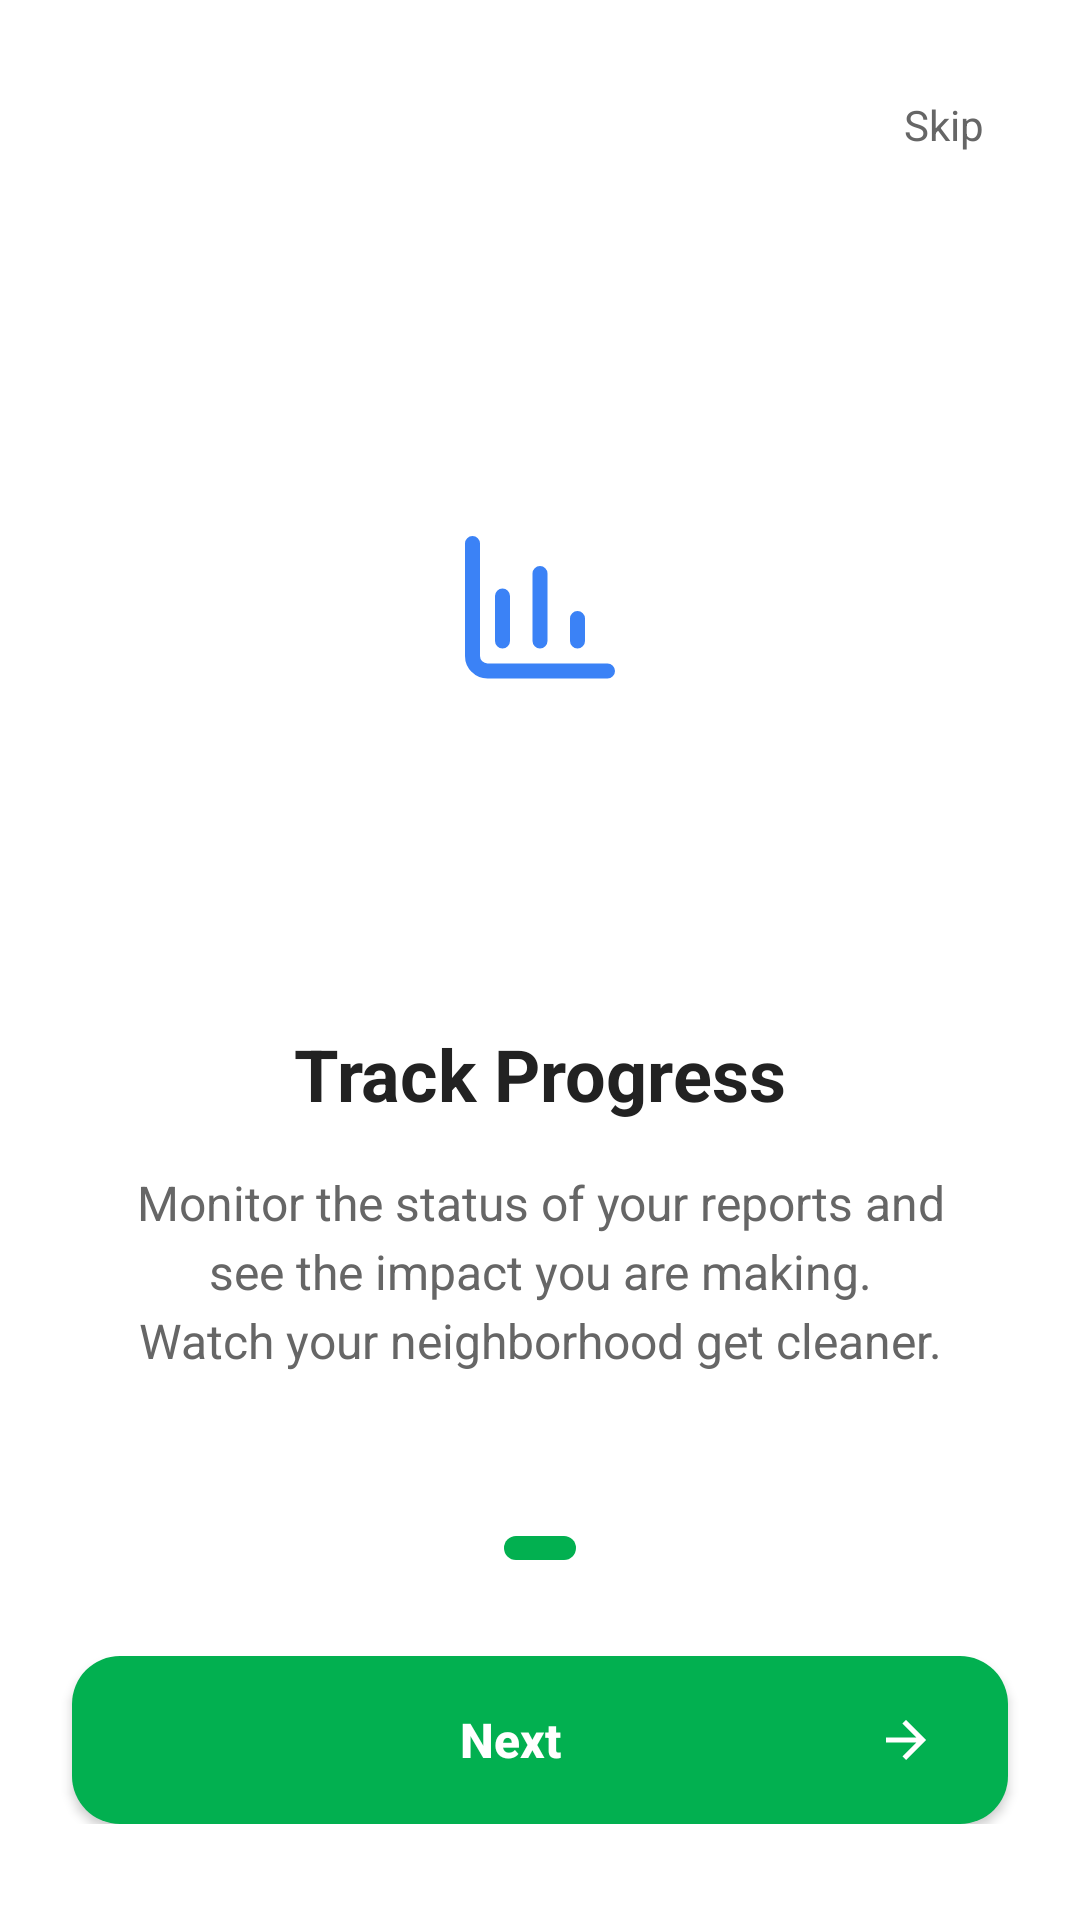

Point at icon controls on the screen. Image size 1080px×1920px, points as (x=x, y=y).
chart: (x=540, y=607)
